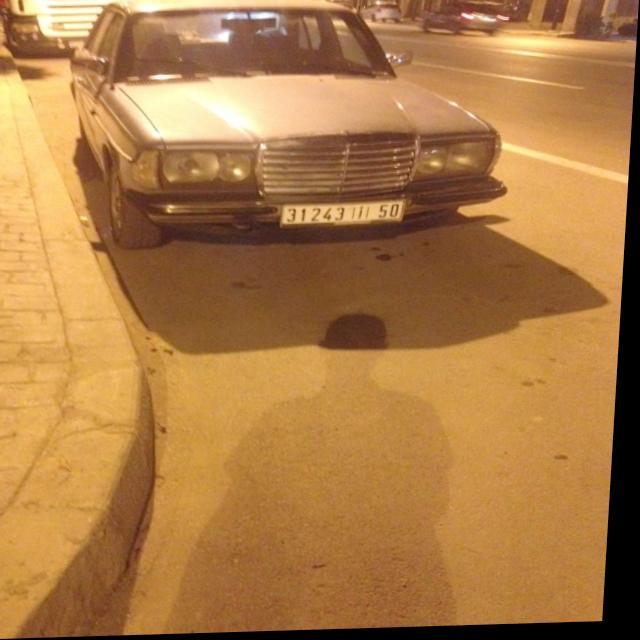License-Plate: (285, 204, 406, 226)
